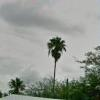Tree: (35, 30, 68, 69)
